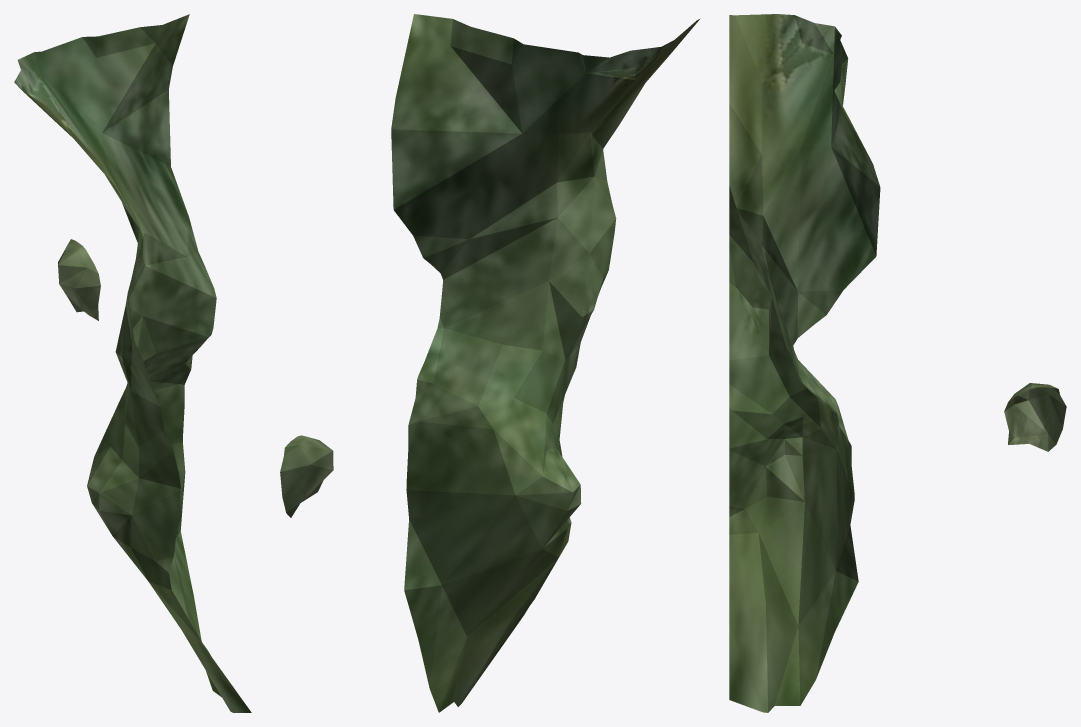
The picture shows the model from 3 angles, left to right: view 1: azimuth 30°, elevation 25°; view 2: azimuth 150°, elevation 25°; view 3: azimuth 270°, elevation 25°; orthographic projection. The views are drawn at different scales.
Size of the model in its own units: 0.942 by 2.94 by 1.48.
1 material, 1 textured.
